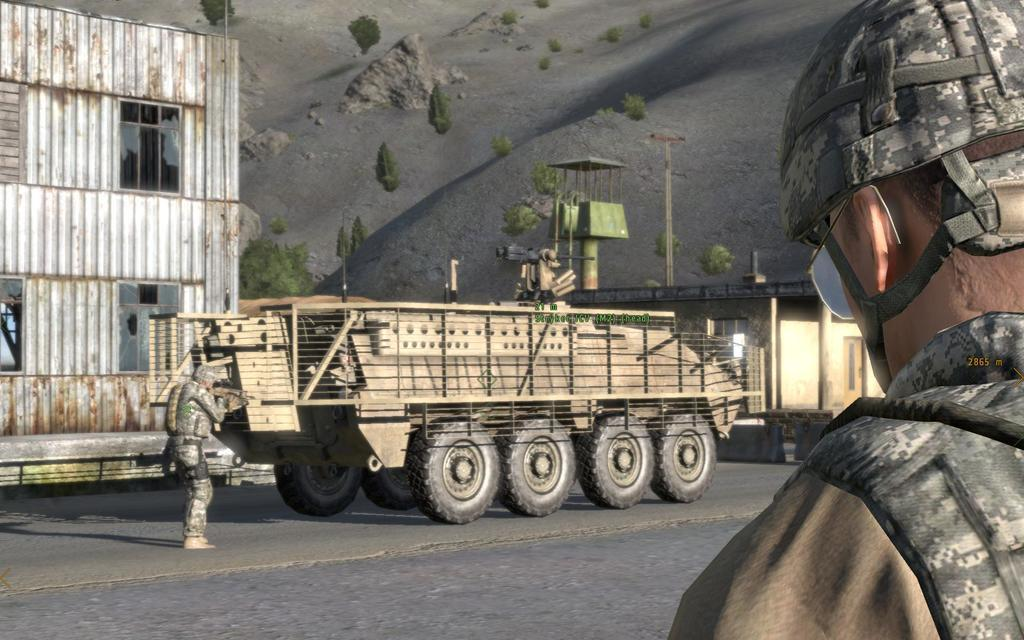non-violence: (668, 1, 1024, 640), (168, 363, 237, 557)
weapon: (495, 242, 596, 298), (207, 386, 251, 415)
